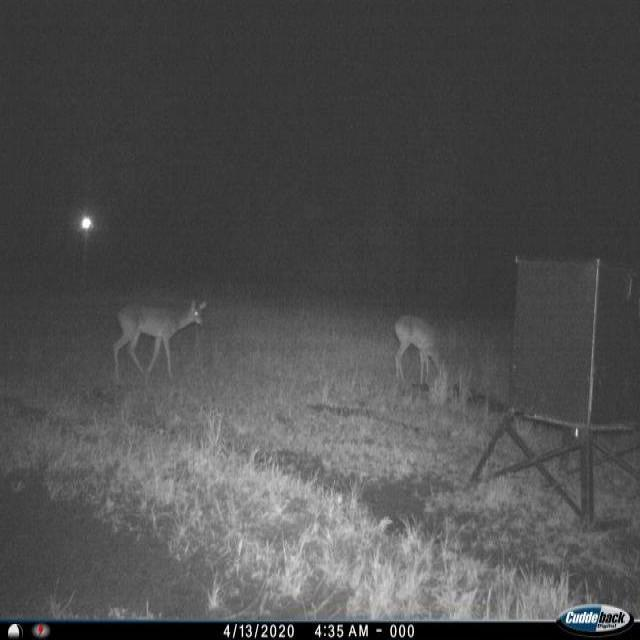deer: (101, 295, 215, 385), (387, 309, 455, 395)
